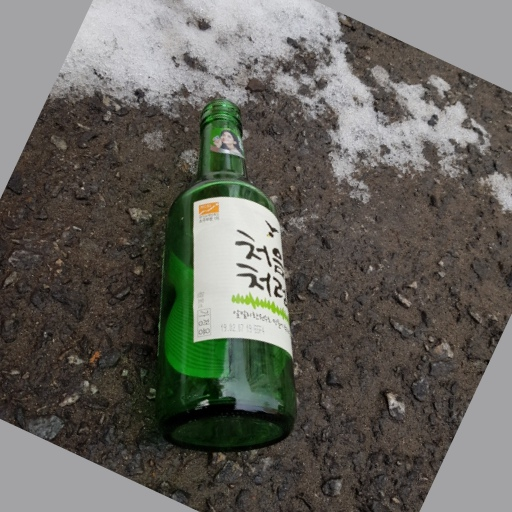Glass_0: (147, 98, 297, 452)
